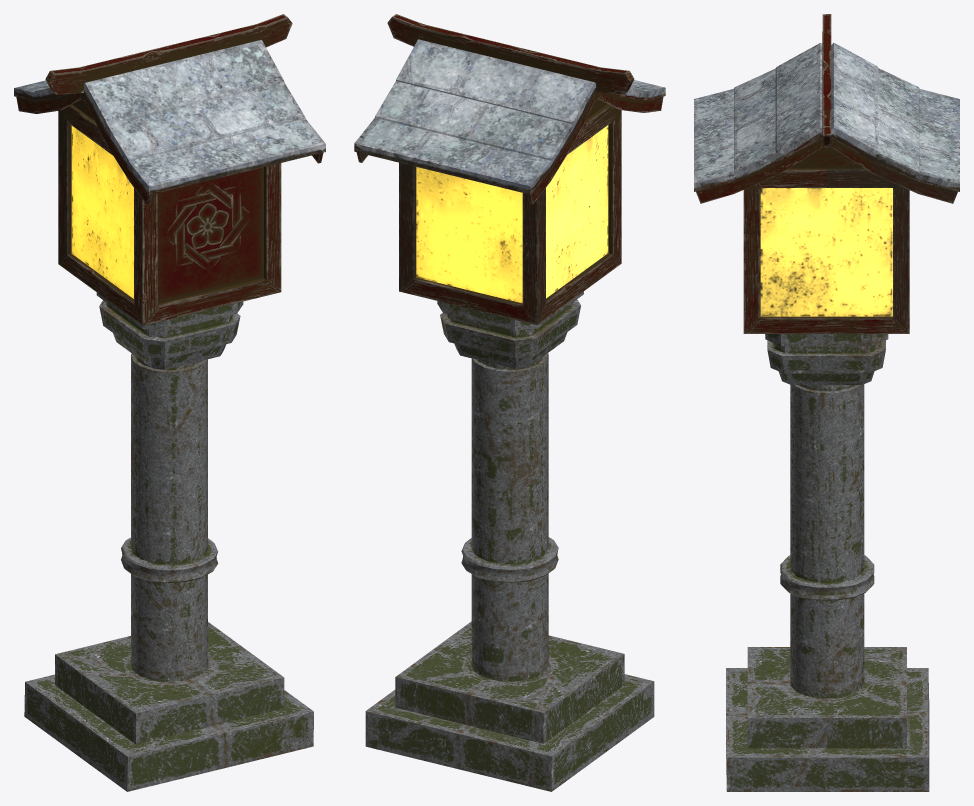
File: japanese_stone_lamp.glb
The picture shows the model from 3 angles, left to right: view 1: azimuth 30°, elevation 25°; view 2: azimuth 150°, elevation 25°; view 3: azimuth 270°, elevation 25°; orthographic projection.
Visible parts, largest first — view 1: Box009, Box010__0, Box011; view 2: Box009, Box010__0, Box011; view 3: Box009, Box010__0, Box011.
Boxes of the visible parts, x1,y1,x2,y2 form: Box009: (24,353,313,791); Box010__0: (58,99,281,369); Box011: (14,14,325,204); Box009: (365,353,654,791); Box010__0: (399,99,621,368); Box011: (354,14,665,204); Box009: (726,384,929,791); Box010__0: (743,147,909,384); Box011: (694,14,959,203).
Size of the model in its own units: 31.43 by 85.11 by 30.28.
Materials: 1 (1 with a texture image).
